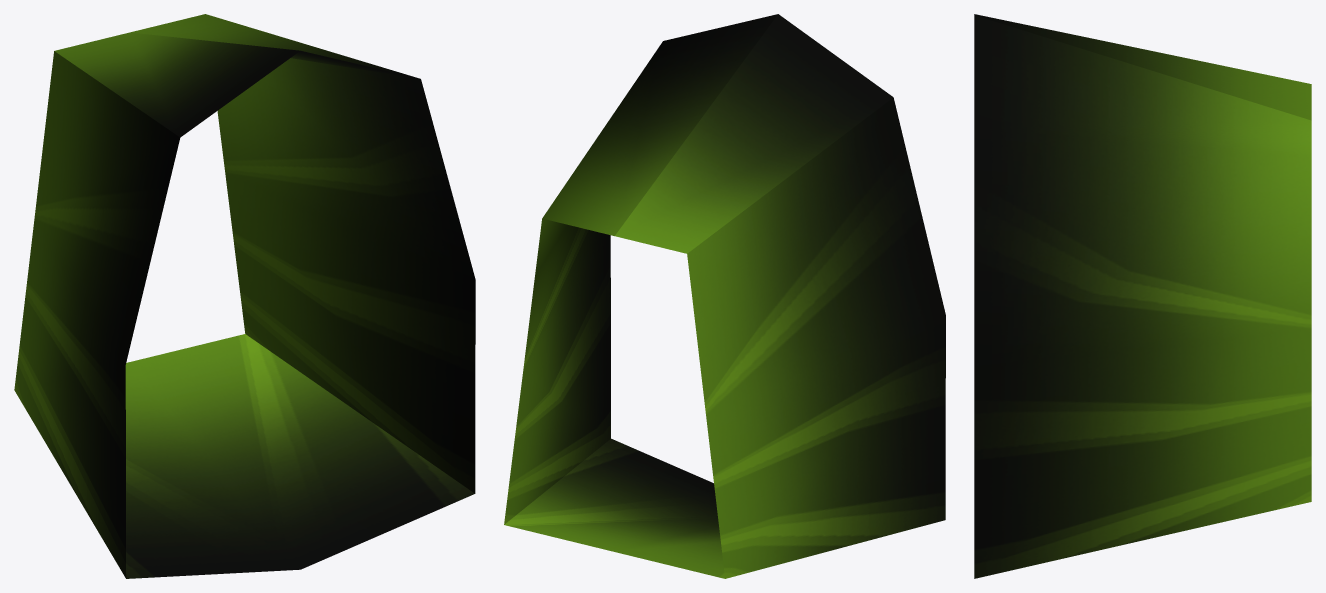
File: window_light_01.fbx
The picture shows the model from 3 angles, left to right: view 1: azimuth 30°, elevation 25°; view 2: azimuth 150°, elevation 25°; view 3: azimuth 270°, elevation 25°; orthographic projection. The views are drawn at different scales.
Visible parts, largest first — view 1: window_light_01; view 2: window_light_01; view 3: window_light_01.
Boxes of the visible parts, x1,y1,x2,y2 form: window_light_01: [14, 14, 475, 578]; window_light_01: [504, 14, 945, 578]; window_light_01: [974, 14, 1311, 578].
Size of the model in its own units: 2.47 by 3.51 by 2.09.
